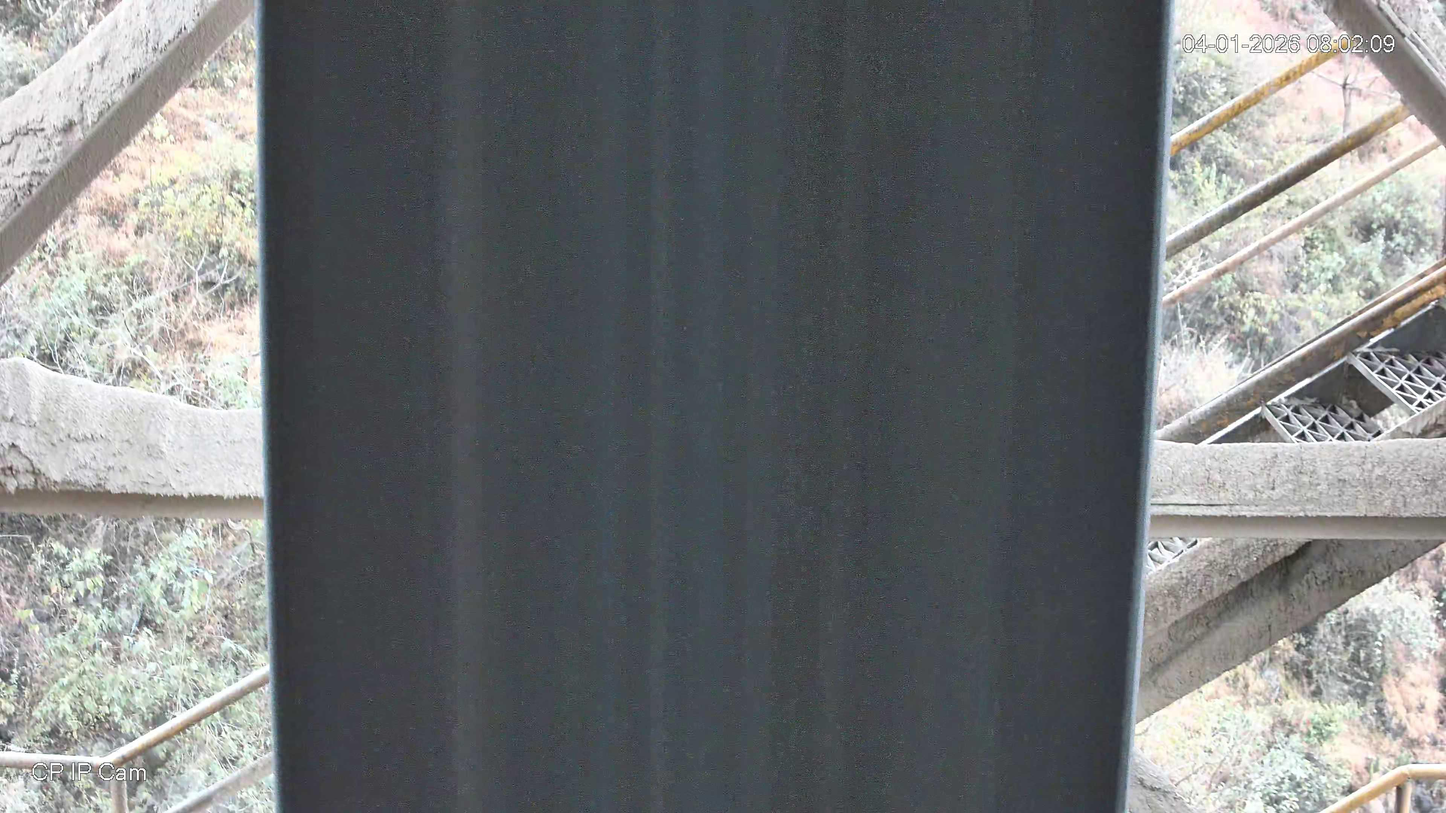belt_roi: (259, 0, 1172, 813)
